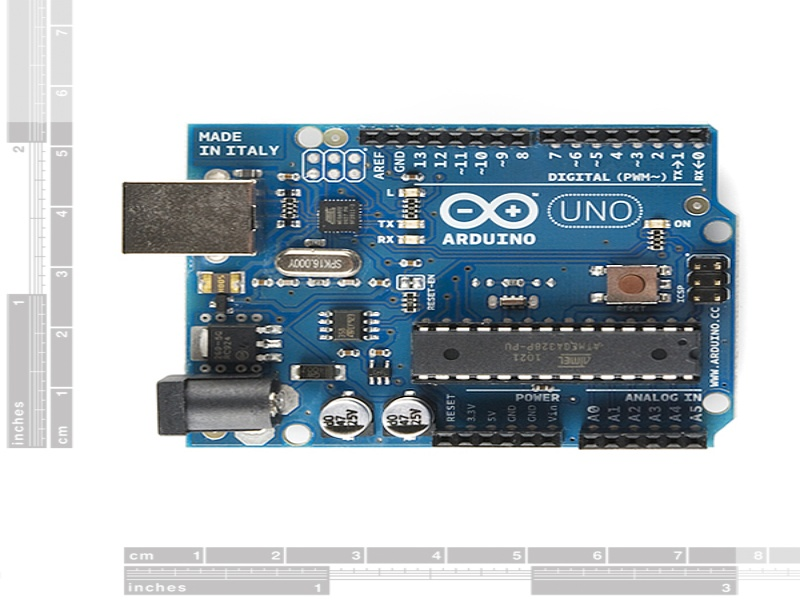uno: (123, 91, 748, 455)
